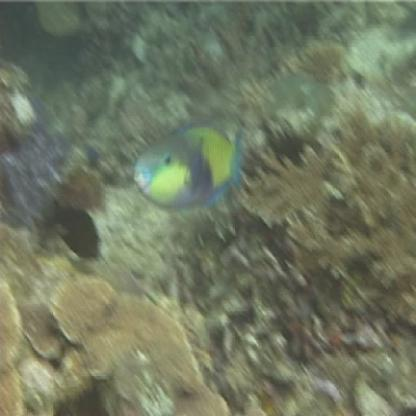Bio: (131, 118, 252, 219)
